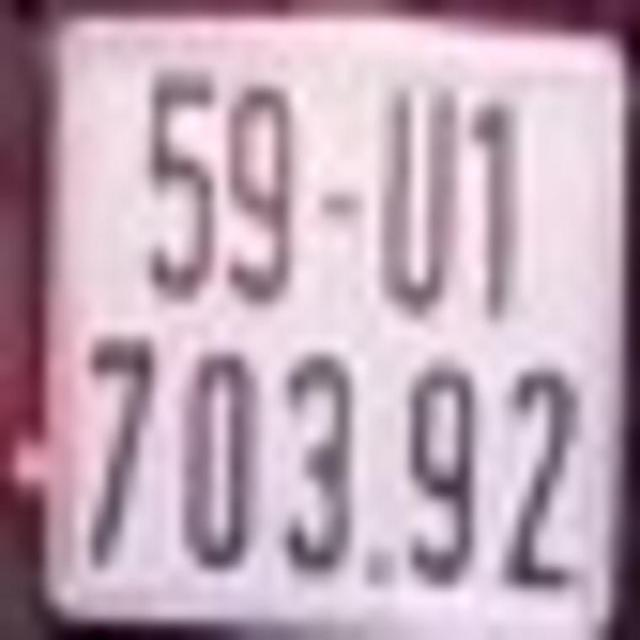0: (184, 361, 261, 570)
1: (468, 101, 525, 316)
2: (507, 373, 577, 594)
3: (282, 354, 354, 570)
5: (148, 78, 222, 310)
7: (89, 332, 162, 566)
9: (406, 364, 480, 582), (228, 80, 296, 306)
U: (387, 91, 462, 312)
